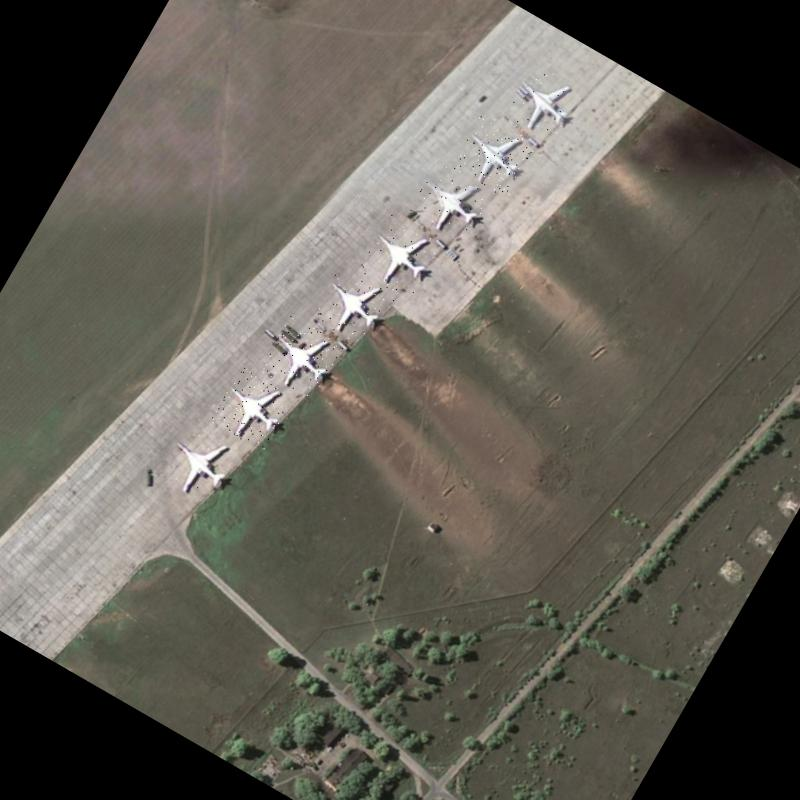A6: (406, 160, 496, 248), (155, 420, 243, 510), (450, 112, 538, 200), (310, 262, 398, 350), (258, 315, 346, 403), (358, 214, 444, 302), (210, 366, 295, 452), (501, 62, 584, 145)
